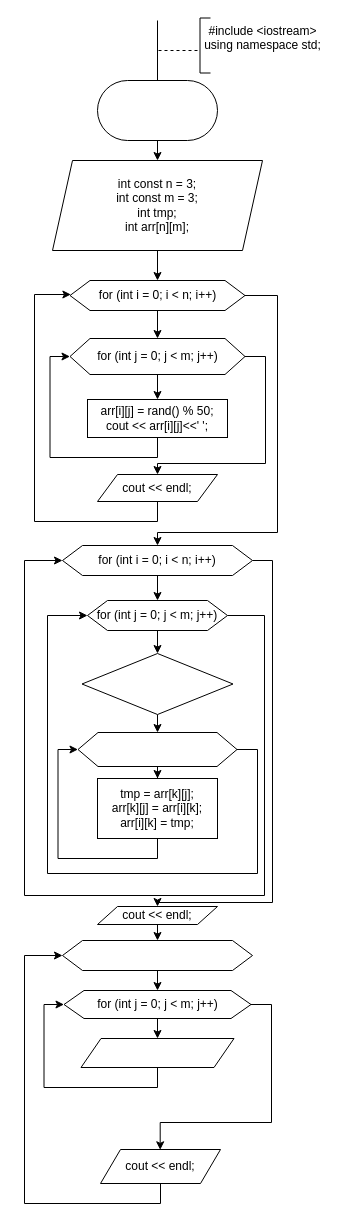
Some shapes in this 345 by 1229 pixel diagram are drawn without their labels. The shapes that lost their labels are listed below. From the top down, each one's centre as x and y in pixels, then its label:
point 157,110: int main()
point 157,683: if (arr[i][0] == arr[0][j])
point 157,749: for (int k = 0; k < m; k++)
point 157,955: for (int j = n - 1; j > index; j--)
point 157,1053: cout << arr[i][j] << ' ';
